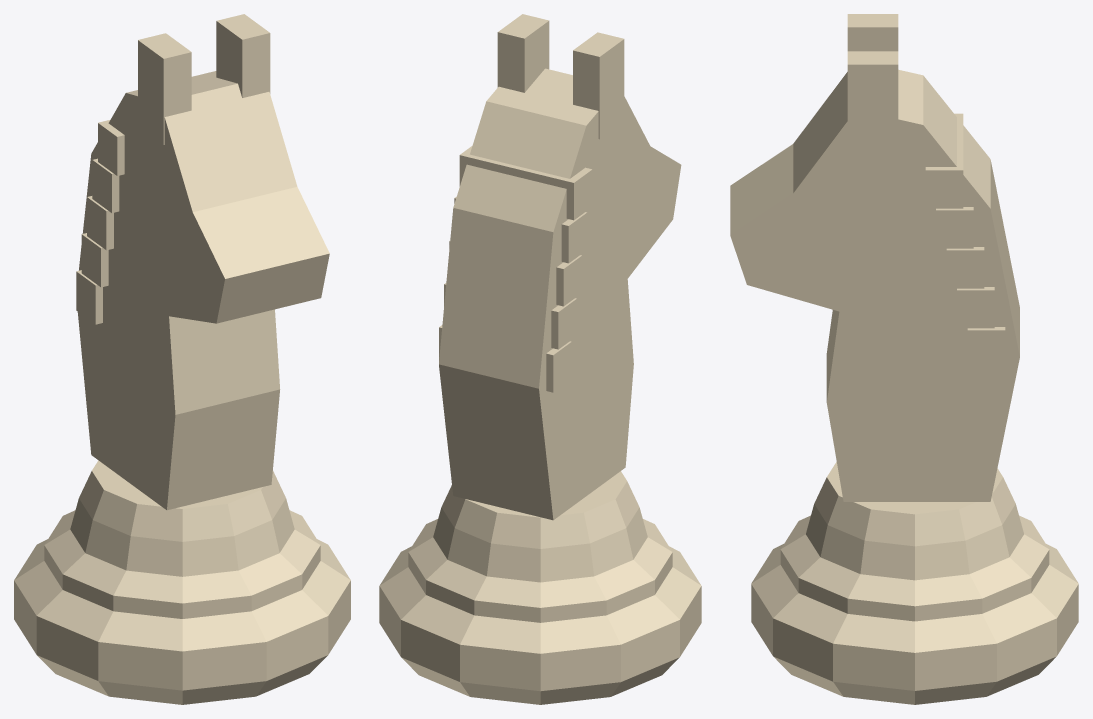
File: knight.glb
3 renders of one model, left to right at view 1: azimuth 30°, elevation 25°; view 2: azimuth 150°, elevation 25°; view 3: azimuth 270°, elevation 25°, orthographic. The views are drawn at different scales.
Visible parts, largest first — view 1: knight; view 2: knight; view 3: knight.
Part boxes in pixels (x1,y1,x2,y2): knight: [14, 14, 350, 704]; knight: [379, 14, 701, 704]; knight: [730, 14, 1078, 704].
Bounding box in the file's own units: 0.78 × 1.59 × 0.83.
